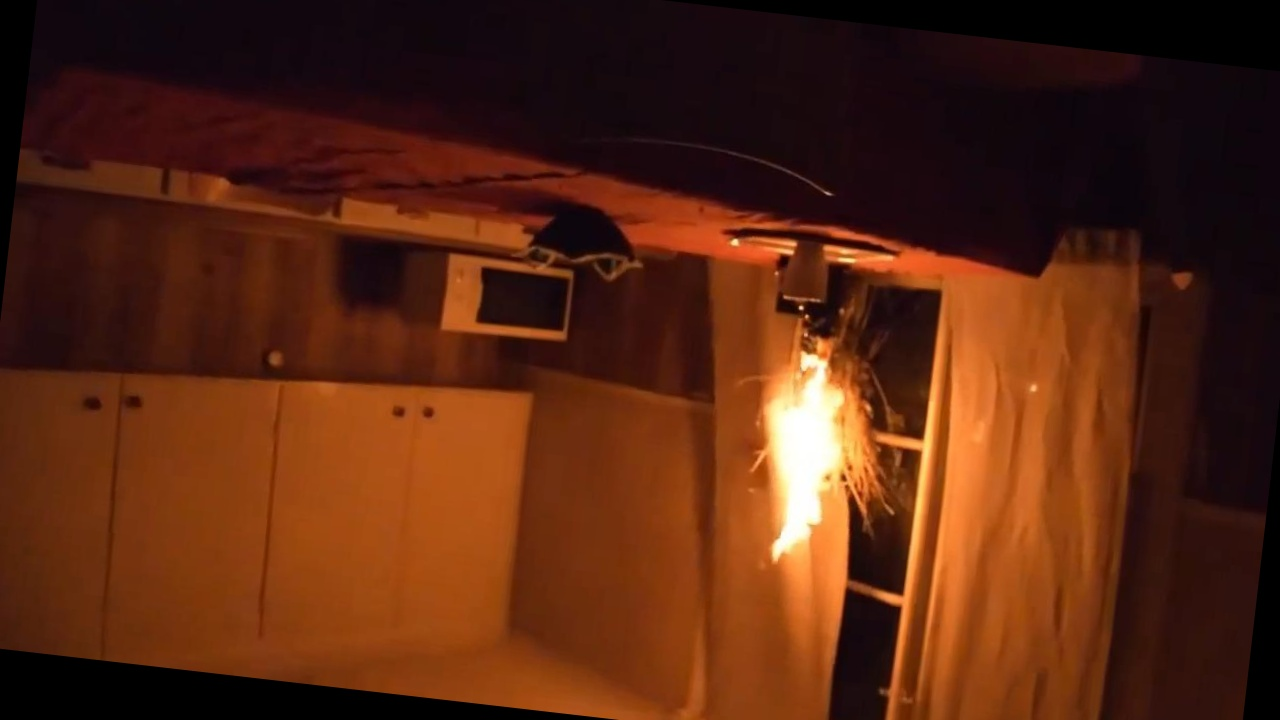fire: (684, 281, 908, 598)
